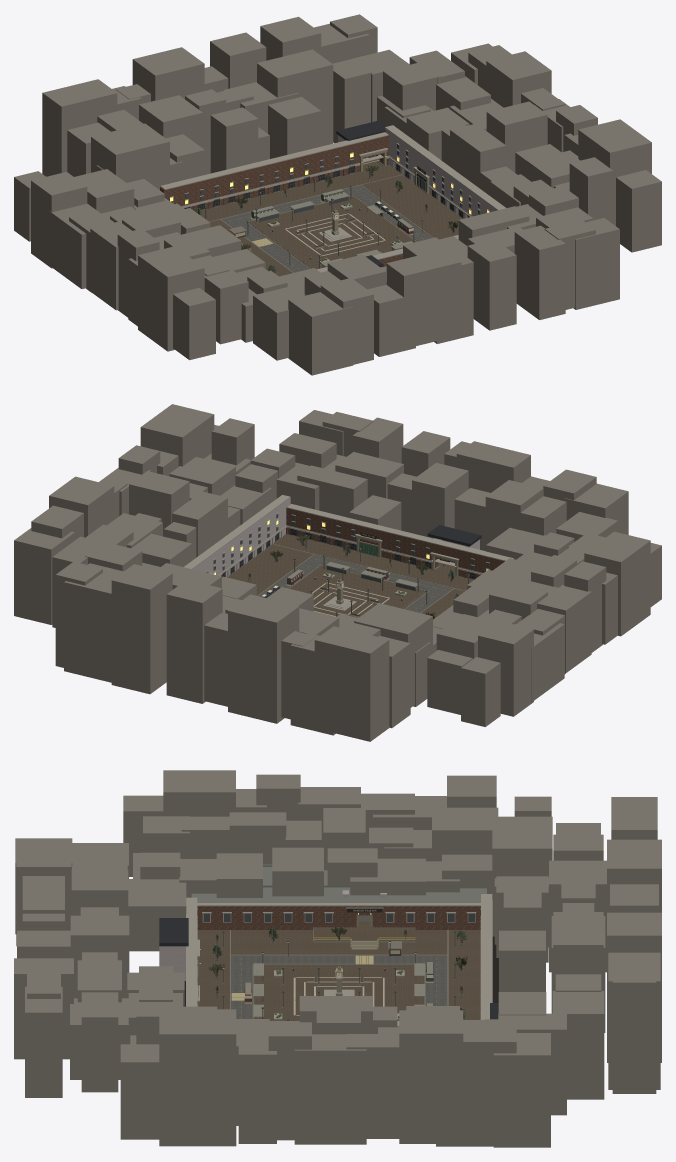
File: station-plaza.glb
3 renders of one model, top to bottom at view 1: azimuth 30°, elevation 25°; view 2: azimuth 150°, elevation 25°; view 3: azimuth 270°, elevation 25°, orthographic. The views are drawn at different scales.
Visible parts, largest first — view 1: bake:plain:plain:#837d72:1.00:0.00:None, bake:herringbone_pavement:paving:#e8dfc7, bake:herringbone_pavement:paving:#f2ead4, bake:brick_wall_001:brick:#7c6a58, bake:plain:plain:#a09a8e:1.00:0.00:None, bake:painted_plaster_wall:render:#b3a894, bake:asphalt_02:asphalt, bake:plain:plain:#2c2f33:1.00:0.00:None, bake:plain:plain:#7e786d:1.00:0.00:None, bake:plain:plain:#8a8779:1.00:0.00:None, bake:plain:plain:#4a4f52:1.00:0.00:None, bake:plain:plain:#55554f:1.00:0.00:None (+2 smaller); view 2: bake:plain:plain:#837d72:1.00:0.00:None, bake:herringbone_pavement:paving:#e8dfc7, bake:plain:plain:#a09a8e:1.00:0.00:None, bake:brick_wall_001:brick:#6f5e51, bake:herringbone_pavement:paving:#f2ead4, bake:painted_plaster_wall:render:#b3a894, bake:asphalt_02:asphalt, bake:plain:plain:#2c2f33:1.00:0.00:None, bake:plain:plain:#4a4f52:1.00:0.00:None, bake:plain:plain:#7e786d:1.00:0.00:None, bake:plain:plain:#55554f:1.00:0.00:None, bake:plain:plain:#8a8779:1.00:0.00:None (+1 smaller); view 3: bake:plain:plain:#837d72:1.00:0.00:None, bake:herringbone_pavement:paving:#e8dfc7, bake:herringbone_pavement:paving:#f2ead4, bake:brick_wall_001:brick:#7c6a58, bake:plain:plain:#a09a8e:1.00:0.00:None, bake:asphalt_02:asphalt, bake:plain:plain:#6e6f68:0.70:0.00:None, bake:plain:plain:#7e786d:1.00:0.00:None, bake:plain:plain:#2c2f33:1.00:0.00:None, bake:plain:plain:#8a8779:1.00:0.00:None, bake:concrete_wall_007:concrete:#98928a, bake:plain:plain:#4a4f52:1.00:0.00:None (+2 smaller).
Part boxes in pixels (left/top/right/bottom): bake:plain:plain:#837d72:1.00:0.00:None: left=14, top=14, right=661, bottom=375; bake:herringbone_pavement:paving:#e8dfc7: left=200, top=158, right=463, bottom=276; bake:herringbone_pavement:paving:#f2ead4: left=248, top=196, right=416, bottom=269; bake:brick_wall_001:brick:#7c6a58: left=160, top=135, right=389, bottom=210; bake:plain:plain:#a09a8e:1.00:0.00:None: left=160, top=125, right=506, bottom=272; bake:painted_plaster_wall:render:#b3a894: left=338, top=128, right=497, bottom=267; bake:asphalt_02:asphalt: left=221, top=185, right=431, bottom=272; bake:plain:plain:#2c2f33:1.00:0.00:None: left=184, top=120, right=468, bottom=267; bake:plain:plain:#7e786d:1.00:0.00:None: left=201, top=161, right=462, bottom=272; bake:plain:plain:#8a8779:1.00:0.00:None: left=246, top=189, right=416, bottom=268; bake:plain:plain:#4a4f52:1.00:0.00:None: left=185, top=144, right=480, bottom=267; bake:plain:plain:#55554f:1.00:0.00:None: left=199, top=156, right=461, bottom=268; bake:plain:plain:#837d72:1.00:0.00:None: left=14, top=404, right=661, bottom=741; bake:herringbone_pavement:paving:#e8dfc7: left=227, top=534, right=473, bottom=618; bake:plain:plain:#a09a8e:1.00:0.00:None: left=184, top=495, right=513, bottom=610; bake:brick_wall_001:brick:#6f5e51: left=286, top=508, right=504, bottom=578; bake:herringbone_pavement:paving:#f2ead4: left=289, top=565, right=426, bottom=616; bake:painted_plaster_wall:render:#b3a894: left=193, top=497, right=479, bottom=577; bake:asphalt_02:asphalt: left=258, top=555, right=453, bottom=612; bake:plain:plain:#2c2f33:1.00:0.00:None: left=221, top=525, right=481, bottom=598; bake:plain:plain:#4a4f52:1.00:0.00:None: left=213, top=514, right=489, bottom=597; bake:plain:plain:#7e786d:1.00:0.00:None: left=231, top=534, right=474, bottom=617; bake:plain:plain:#55554f:1.00:0.00:None: left=223, top=531, right=474, bottom=616; bake:plain:plain:#8a8779:1.00:0.00:None: left=287, top=562, right=427, bottom=608; bake:plain:plain:#837d72:1.00:0.00:None: left=14, top=770, right=661, bottom=1147; bake:herringbone_pavement:paving:#e8dfc7: left=197, top=930, right=480, bottom=1019; bake:herringbone_pavement:paving:#f2ead4: left=253, top=921, right=424, bottom=1020; bake:brick_wall_001:brick:#7c6a58: left=197, top=906, right=480, bottom=929; bake:plain:plain:#a09a8e:1.00:0.00:None: left=186, top=894, right=492, bottom=1026; bake:asphalt_02:asphalt: left=231, top=955, right=447, bottom=1018; bake:plain:plain:#6e6f68:0.70:0.00:None: left=191, top=866, right=486, bottom=902; bake:plain:plain:#7e786d:1.00:0.00:None: left=222, top=930, right=455, bottom=1018; bake:plain:plain:#2c2f33:1.00:0.00:None: left=159, top=918, right=498, bottom=1020; bake:plain:plain:#8a8779:1.00:0.00:None: left=245, top=962, right=432, bottom=1020; bake:concrete_wall_007:concrete:#98928a: left=197, top=915, right=415, bottom=1020; bake:plain:plain:#4a4f52:1.00:0.00:None: left=203, top=913, right=474, bottom=1005.
Bounding box in the file's own units: 266 × 55.34 × 255.
72 materials, 41 textured.
